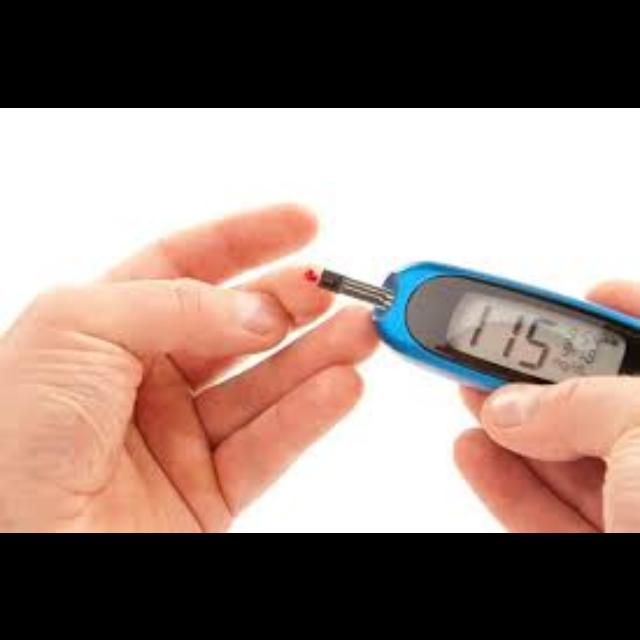Glucose-Meter: (321, 261, 640, 389)
